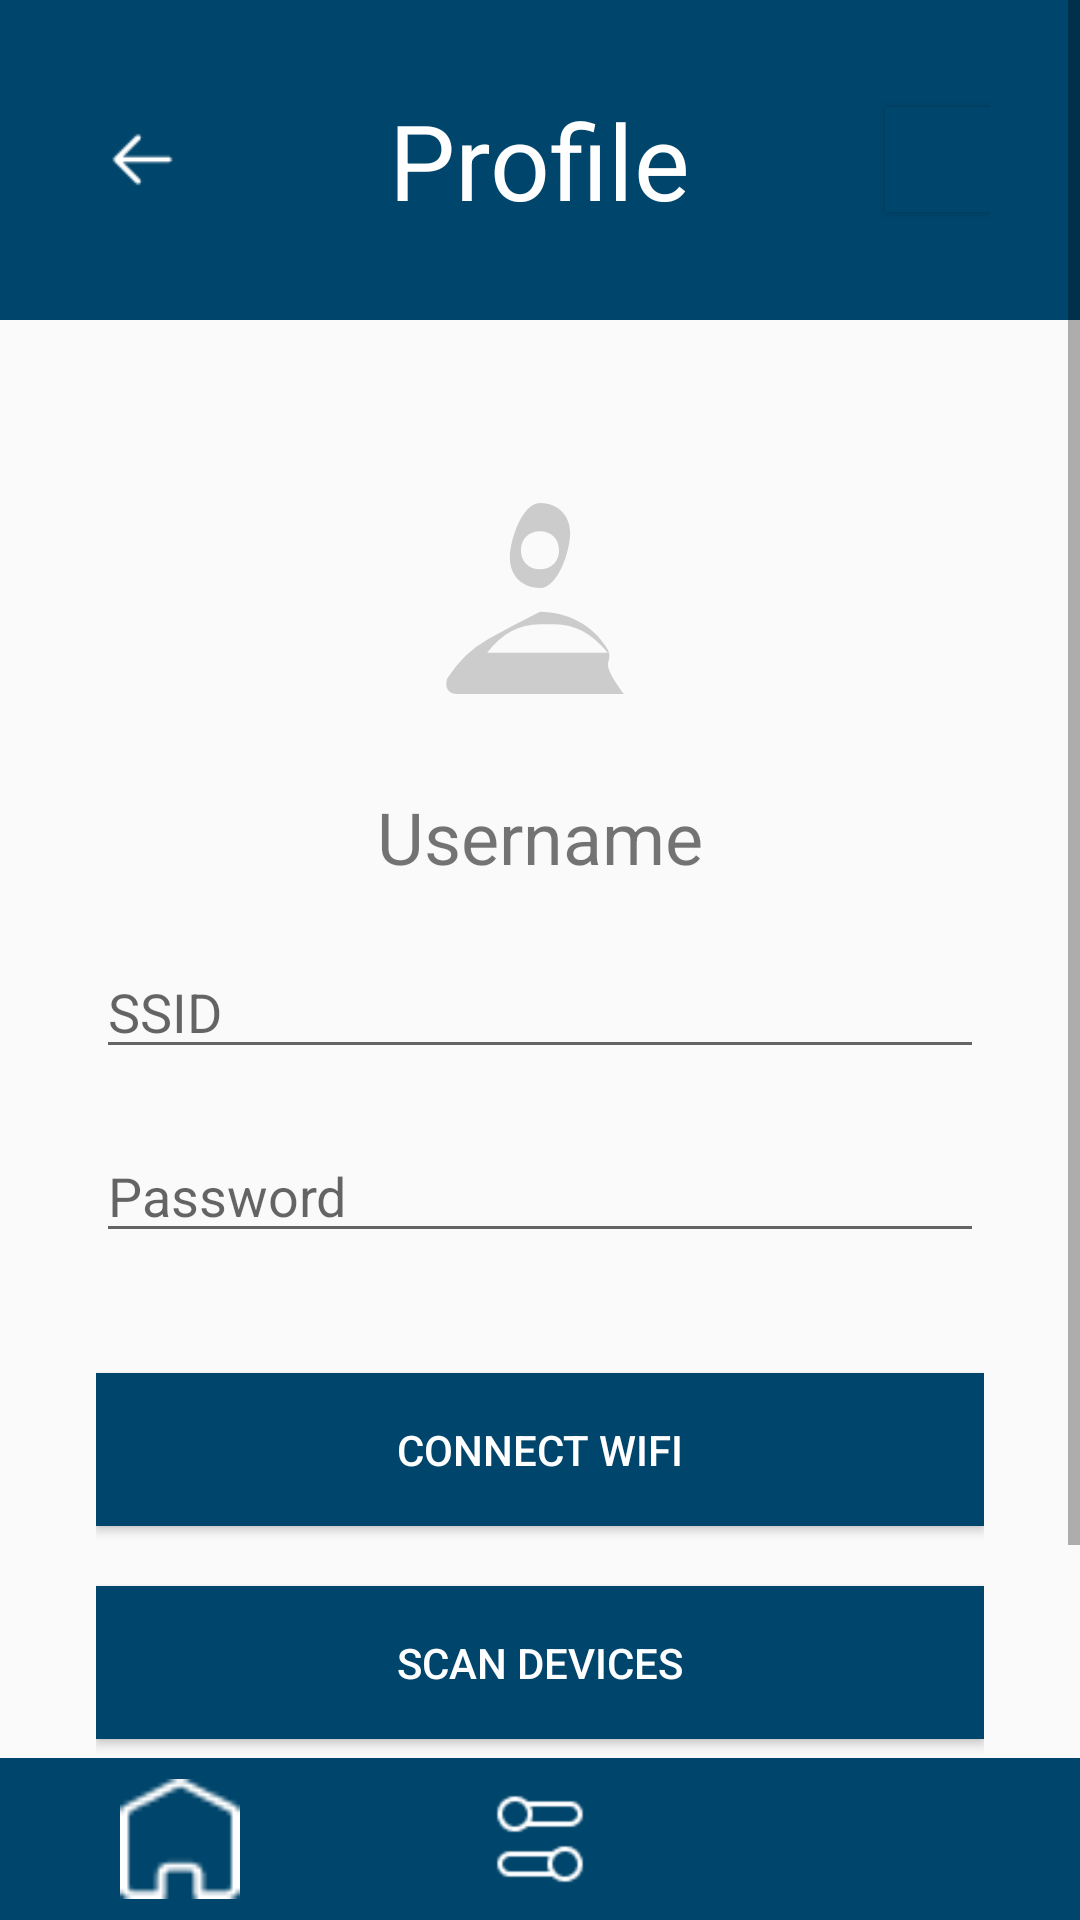

Locate icon controls on the screen. Image size 1080x1920, boxes as bbox=[x1, y1, x2, y2].
back: bbox=[112, 134, 173, 185]
